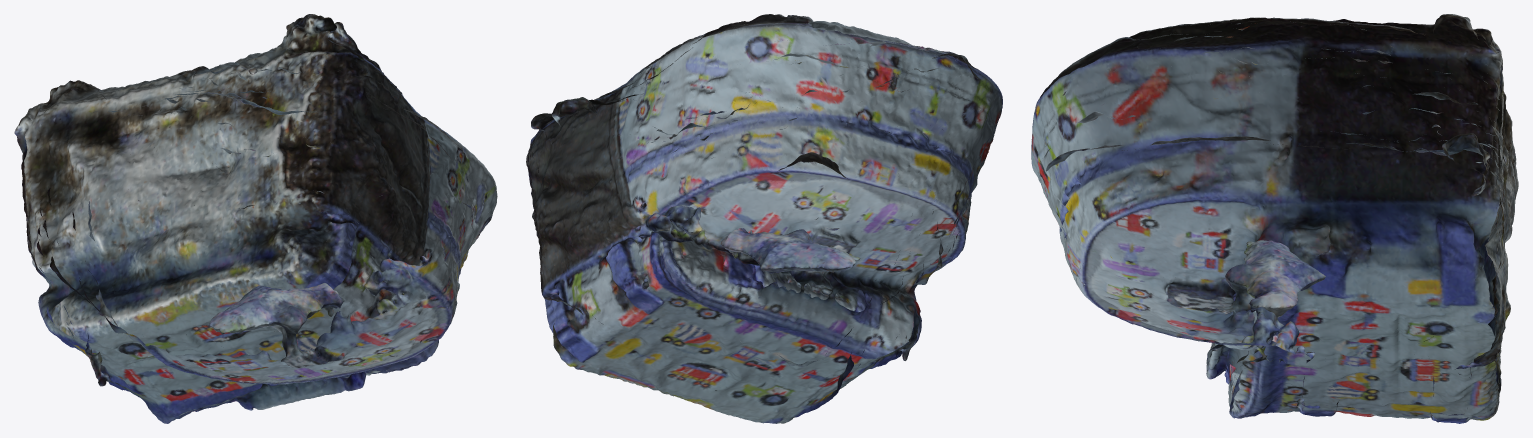
The model's file is backpack.glb.
The picture shows the model from 3 angles, left to right: view 1: azimuth 30°, elevation 25°; view 2: azimuth 150°, elevation 25°; view 3: azimuth 270°, elevation 25°; orthographic projection. The views are drawn at different scales.
Bounding box in the file's own units: 0.9098 × 0.6733 × 1.
